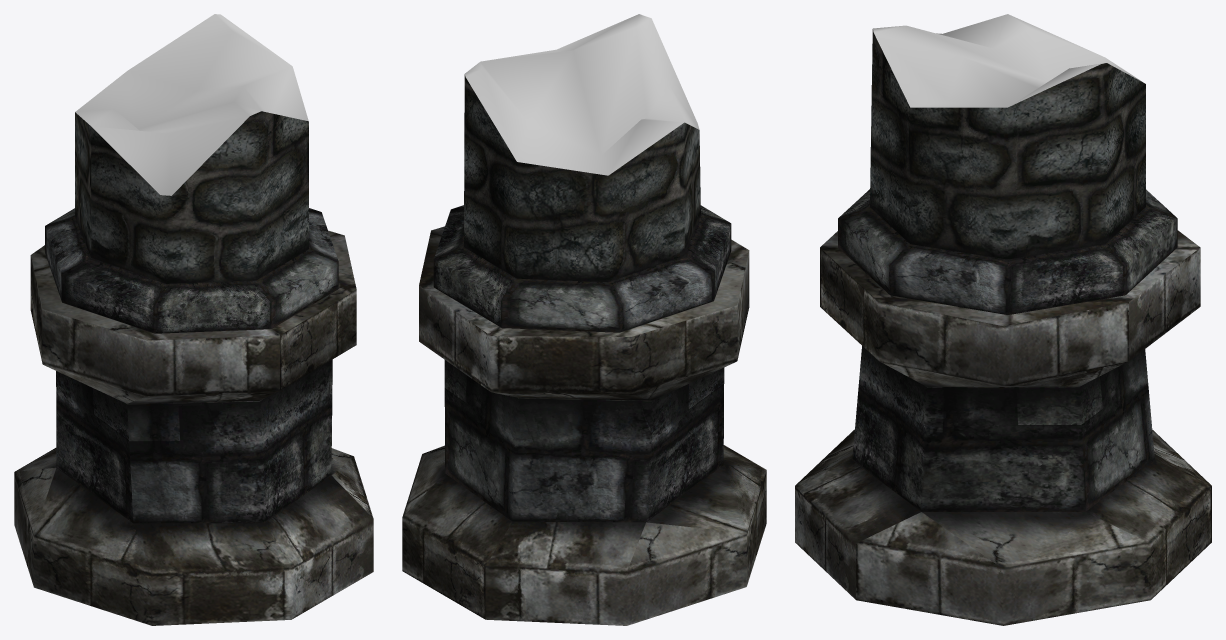
Rendered from tall_castlestone_decayed01.dae.
3 renders of one model, left to right at view 1: azimuth 30°, elevation 25°; view 2: azimuth 150°, elevation 25°; view 3: azimuth 270°, elevation 25°, orthographic. The views are drawn at different scales.
Parts seen in each view (by area): view 1: tall_castlestone_decayed01, polySurface11; view 2: tall_castlestone_decayed01, polySurface11; view 3: tall_castlestone_decayed01, polySurface11.
Boxes of the visible parts, box(x1,y1,x2,y2) form: tall_castlestone_decayed01: box(14, 111, 373, 625); polySurface11: box(75, 14, 308, 195); tall_castlestone_decayed01: box(402, 74, 766, 625); polySurface11: box(465, 14, 699, 175); tall_castlestone_decayed01: box(795, 29, 1211, 625); polySurface11: box(873, 14, 1143, 107).
Bounding box in the file's own units: 1.87 × 2.69 × 1.97.
